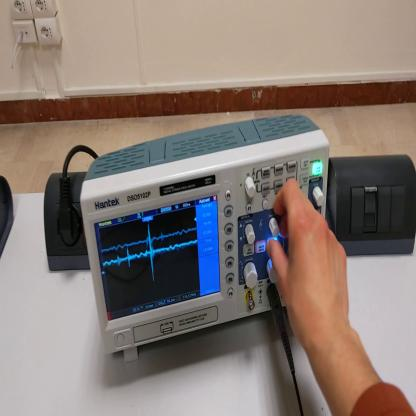hand: (268, 180, 353, 349)
oscilloscope: (84, 116, 331, 362)
socket: (43, 176, 90, 271), (2, 177, 16, 257)
